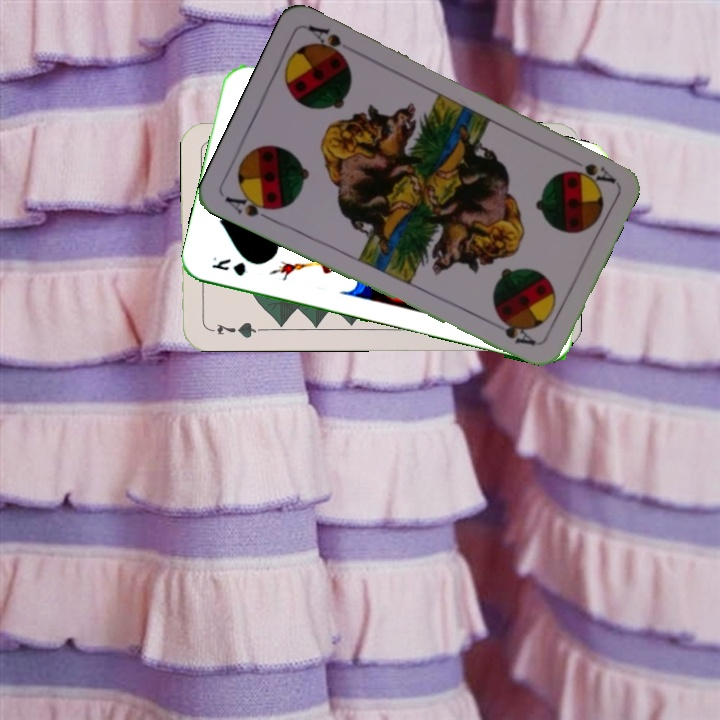G7: (206, 318, 265, 341)
GK: (207, 253, 249, 279)
SA: (221, 189, 281, 225), (562, 152, 617, 186)
